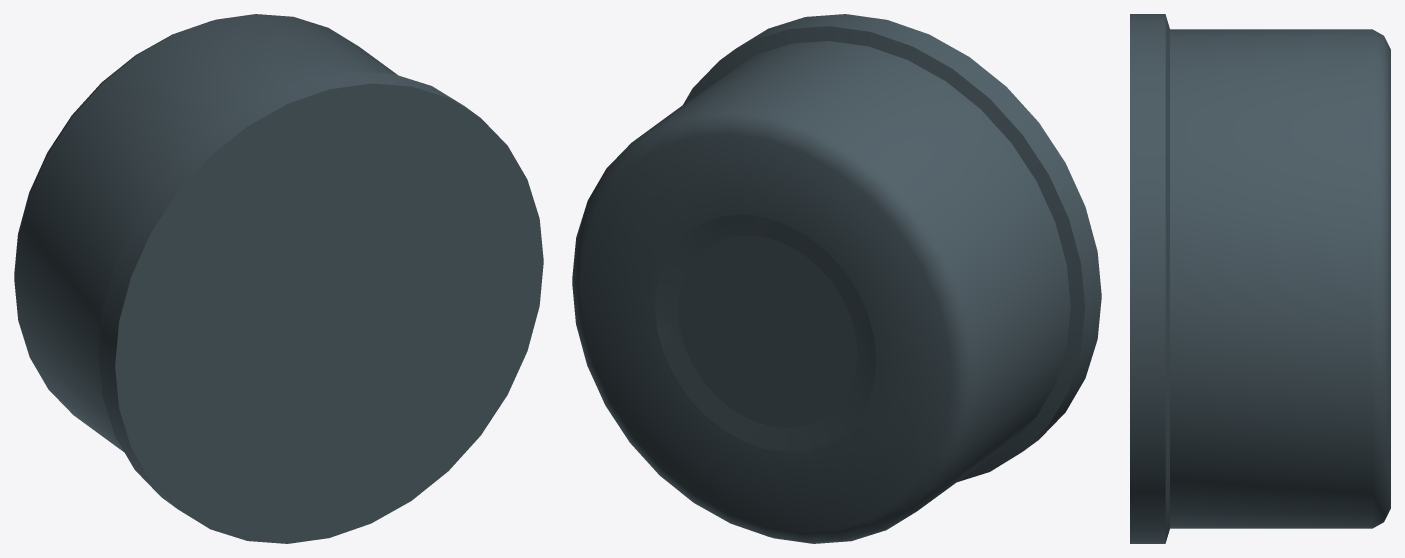
The model's file is ЗУР-РМ-ДУС_П.fbx.
3 renders of one model, left to right at view 1: azimuth 30°, elevation 25°; view 2: azimuth 150°, elevation 25°; view 3: azimuth 270°, elevation 25°, orthographic. The views are drawn at different scales.
Parts seen in each view (by area): view 1: ЗУР-РО-ДУС_П; view 2: ЗУР-РО-ДУС_П; view 3: ЗУР-РО-ДУС_П.
Part boxes in pixels (box(x1,y1,x2,y2)): ЗУР-РО-ДУС_П: box(14, 14, 543, 543); ЗУР-РО-ДУС_П: box(572, 14, 1101, 543); ЗУР-РО-ДУС_П: box(1130, 14, 1390, 543).
Size of the model in its own units: 22.69 by 22.69 by 11.15.
Materials: 1 (1 with a texture image).
